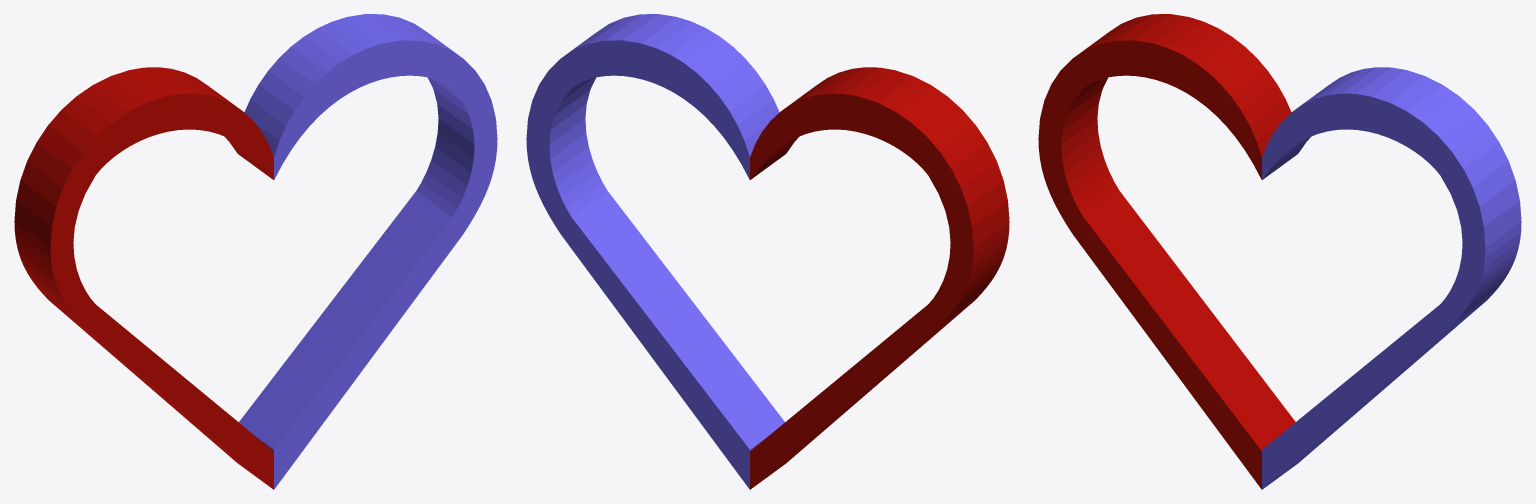
Rendered from tinker.dae.
3 renders of one model, left to right at view 1: azimuth 30°, elevation 25°; view 2: azimuth 150°, elevation 25°; view 3: azimuth 330°, elevation 25°, orthographic.
Parts seen in each view (by area): view 1: g group_1_7563769, g group_0_12060672; view 2: g group_1_7563769, g group_0_12060672; view 3: g group_0_12060672, g group_1_7563769.
Boxes of the visible parts, x1,y1,x2,y2 form: g group_1_7563769: (239,14,497,489); g group_0_12060672: (14,67,273,489); g group_1_7563769: (526,14,784,489); g group_0_12060672: (750,67,1009,489); g group_0_12060672: (1038,14,1295,489); g group_1_7563769: (1262,67,1521,489).
Bounding box in the file's own units: 143 × 128 × 20.
